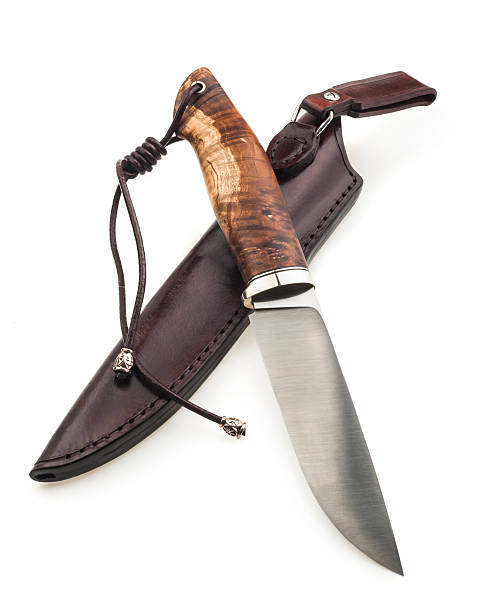knife: (169, 48, 409, 580)
